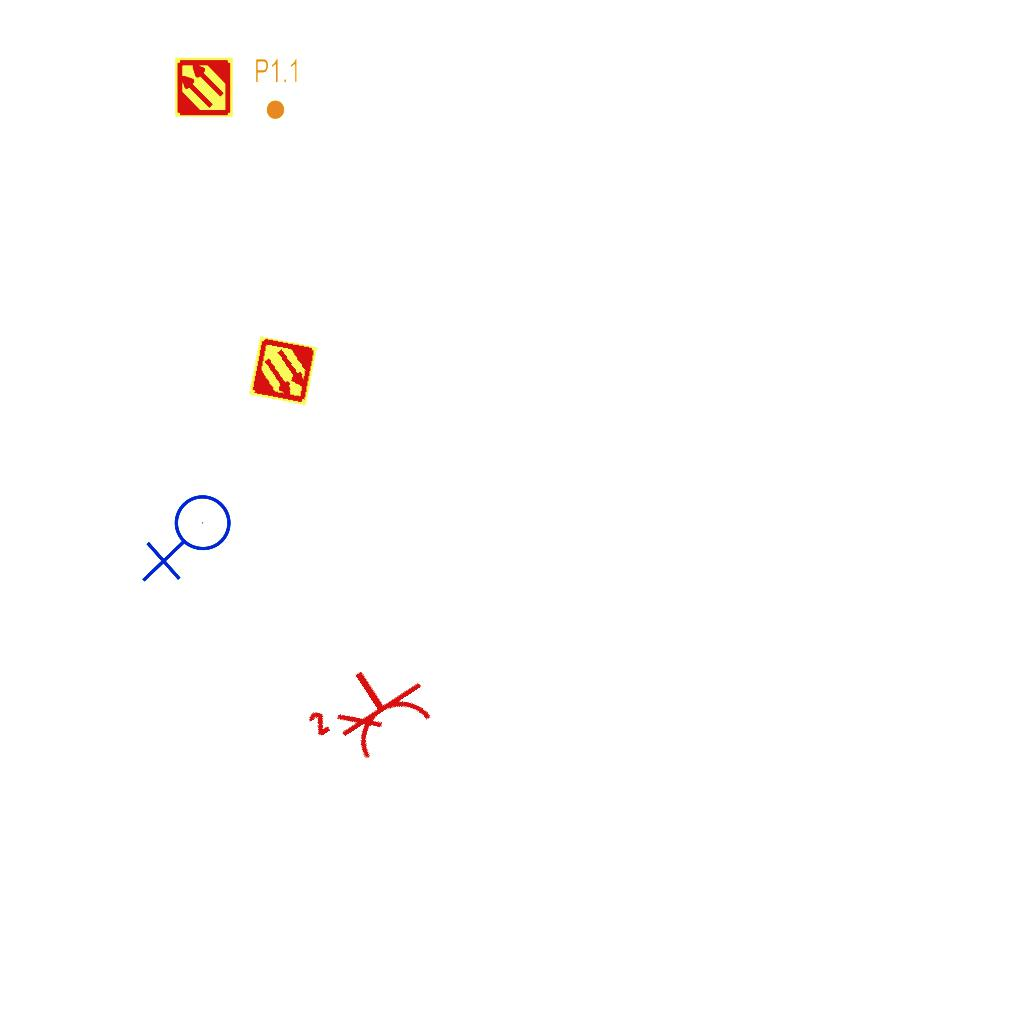ASR_Ansaugrauchmelder: (246, 334, 320, 408), (173, 56, 235, 118)
Downlight_LED_Einbauleuchten_Flur_2: (254, 57, 300, 121)
Elektroanschluss_allgemein_230V_Geraeteanschlussdose_230V: (141, 493, 240, 587)
Schukosteckdose_mehrfach: (295, 640, 446, 780)
